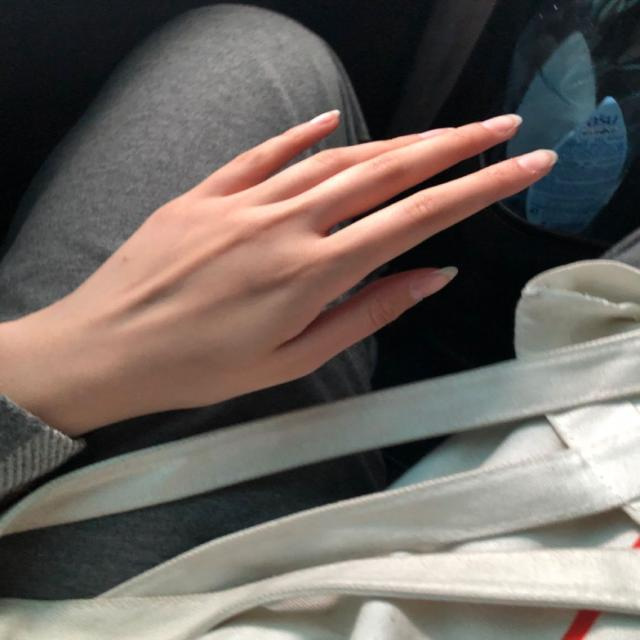no-gloves: (47, 109, 560, 417)
